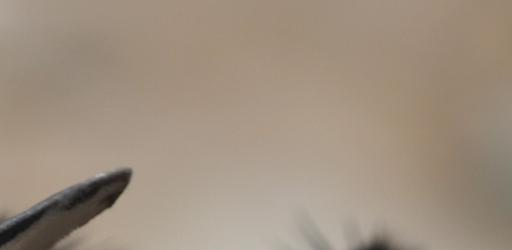Southern Rockhopper Penguin: (0, 17, 137, 250), (175, 197, 512, 250), (0, 192, 151, 250)
